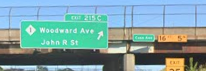1: (158, 34, 162, 41)
5: (176, 33, 182, 42)
6: (161, 35, 167, 41)
overheadsign: (156, 33, 188, 43)
